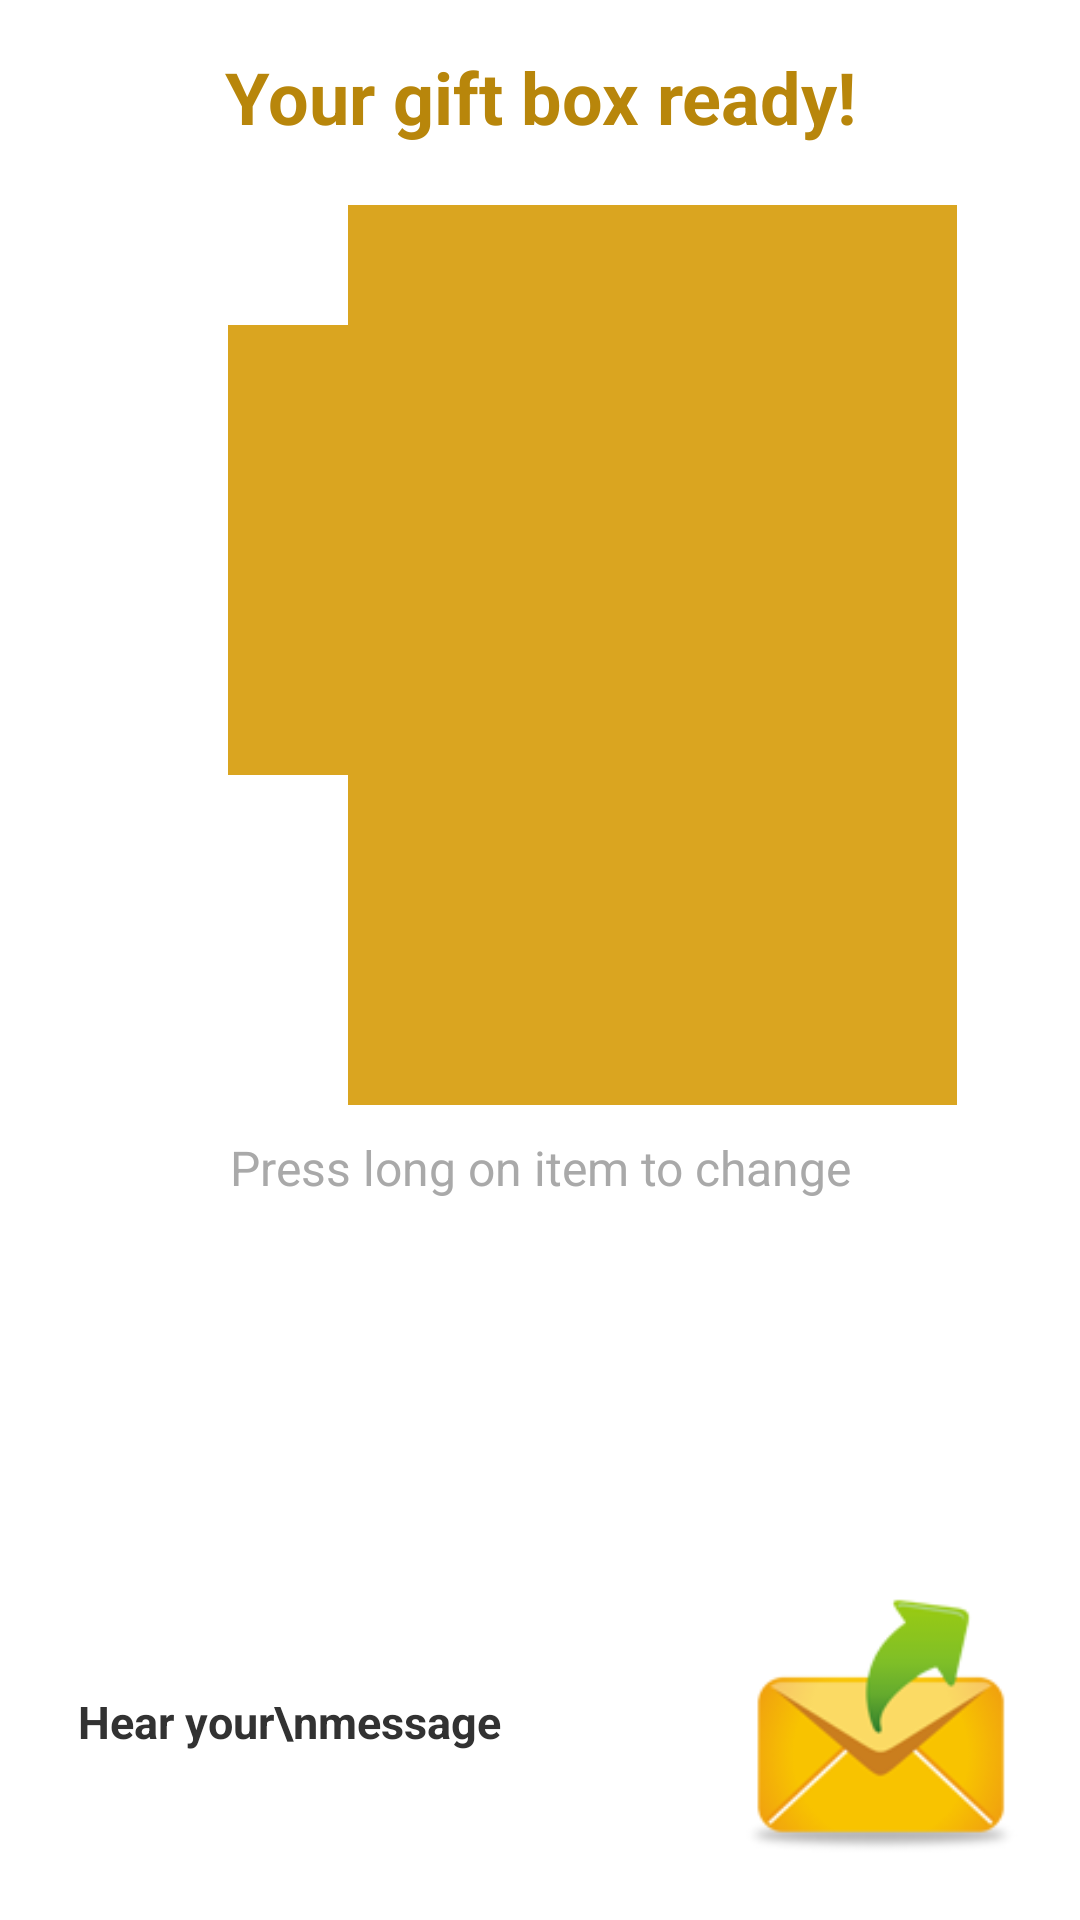

Screen size 1080×1920. Icon name, then its center in pixels as (x=x, y=y):
send mail: (x=881, y=1722)
